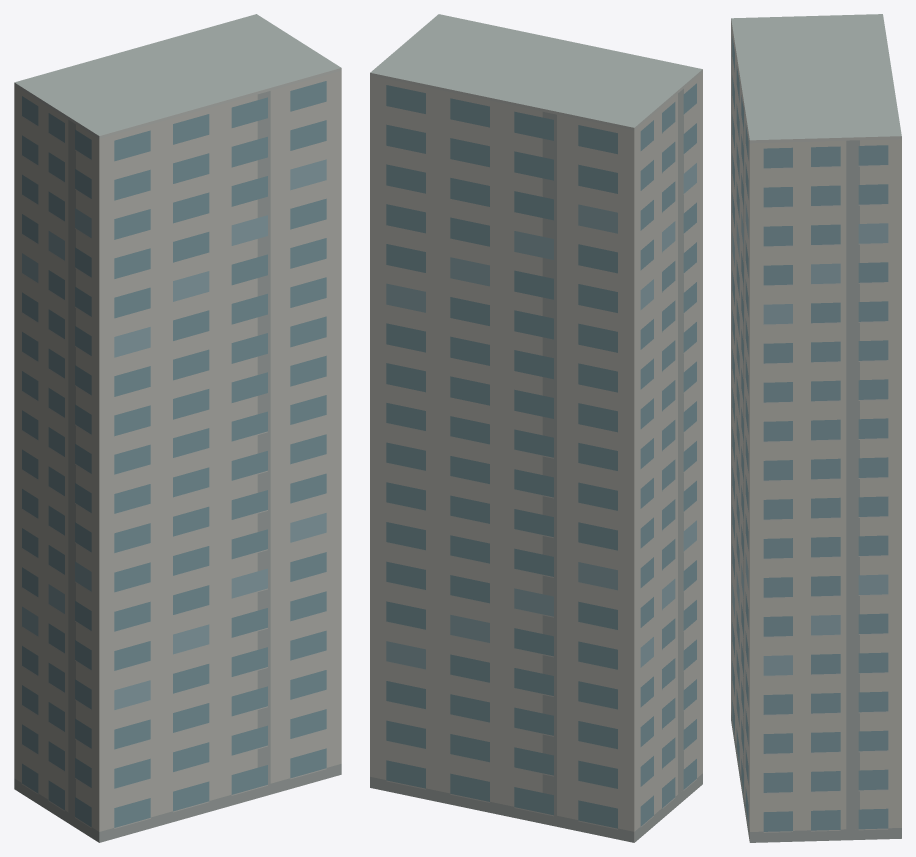
File: residential-25bdc077-7bf7-421e-a461-a739208736a8.glb
3 renders of one model, left to right at view 1: azimuth 30°, elevation 25°; view 2: azimuth 150°, elevation 25°; view 3: azimuth 270°, elevation 25°, orthographic.
Parts seen in each view (by area): view 1: residential-25bdc077-7bf7-421e-a461-a739208736a8.tmp; view 2: residential-25bdc077-7bf7-421e-a461-a739208736a8.tmp; view 3: residential-25bdc077-7bf7-421e-a461-a739208736a8.tmp.
Part boxes in pixels (bbox=[...]): residential-25bdc077-7bf7-421e-a461-a739208736a8.tmp: bbox=[14, 14, 341, 842]; residential-25bdc077-7bf7-421e-a461-a739208736a8.tmp: bbox=[370, 14, 702, 842]; residential-25bdc077-7bf7-421e-a461-a739208736a8.tmp: bbox=[731, 14, 901, 842].
Bounding box in the file's own units: 22.76 × 59 × 13.
